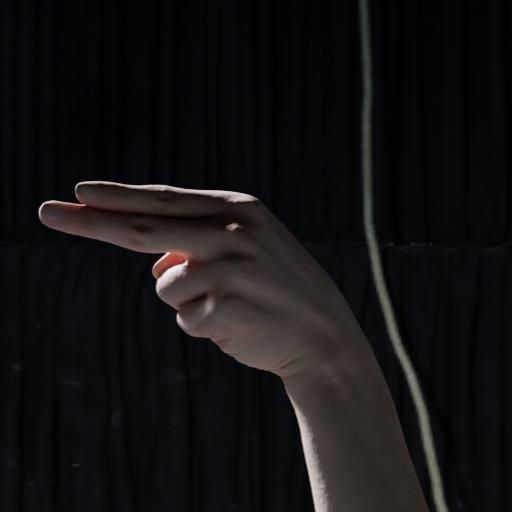H: (35, 180, 358, 376)
